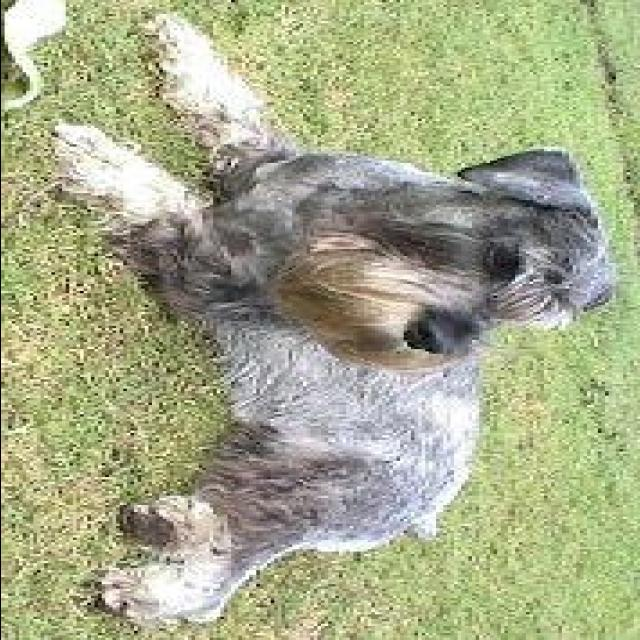standard_schnauzer: (54, 6, 626, 628)
